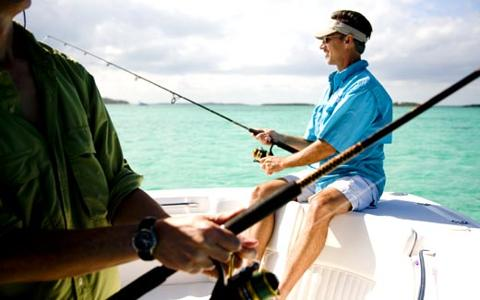person: (246, 10, 395, 300)
